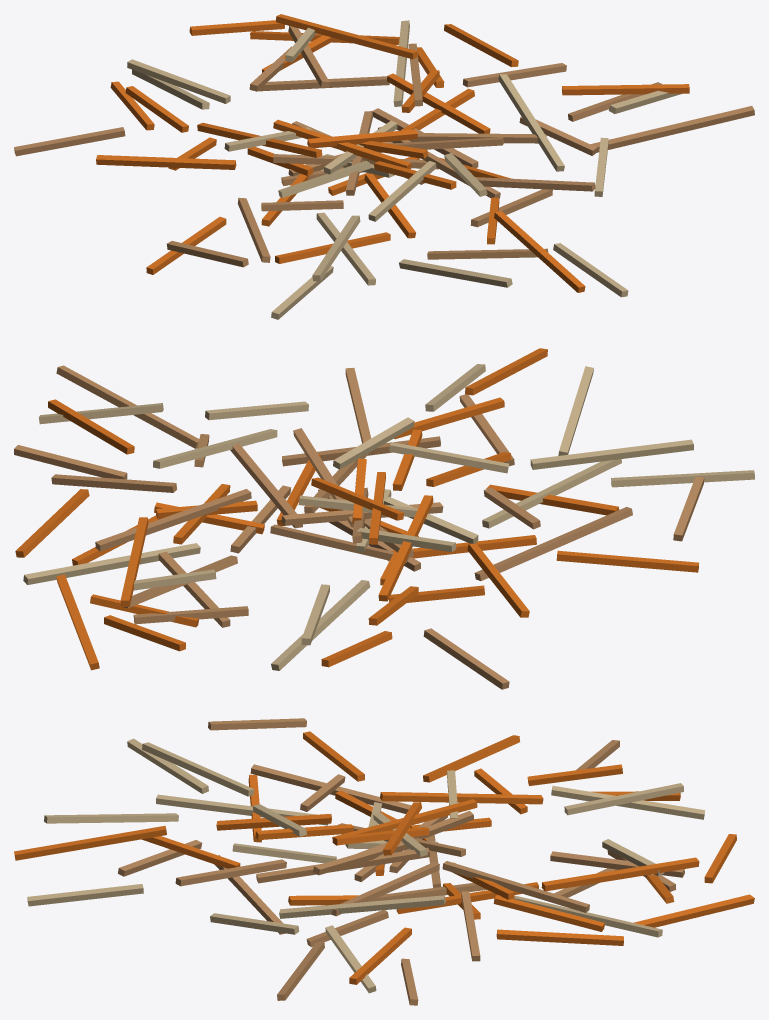
File: straw.glb
3 views of the same model, one above another, from view 1: azimuth 30°, elevation 25°; view 2: azimuth 150°, elevation 25°; view 3: azimuth 270°, elevation 25° (orthographic). The views are drawn at different scales.
Visible parts, largest first — view 1: straw; view 2: straw; view 3: straw.
Part boxes in pixels (left/top/right/bottom): straw: left=14, top=14, right=754, bottom=319; straw: left=14, top=348, right=754, bottom=689; straw: left=14, top=718, right=754, bottom=1005.
Bounding box in the file's own units: 0.853 × 0.0739 × 0.9214.
